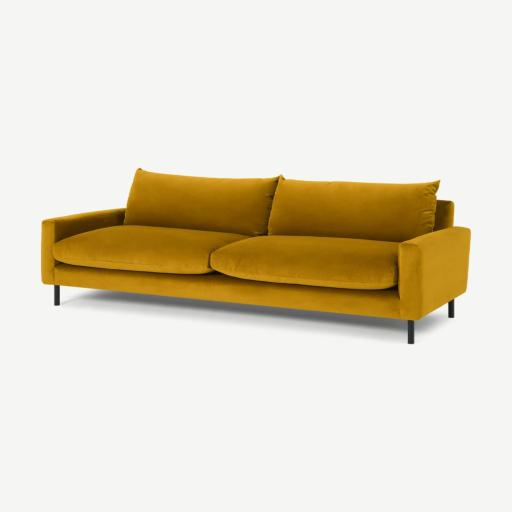back_cushion: (125, 170, 438, 242)
base: (56, 263, 405, 319)
left_arm: (397, 227, 470, 320)
legs: (407, 320, 414, 344), (54, 285, 60, 306), (449, 303, 453, 312)
right_arm: (42, 209, 124, 284)
seat_cushion: (54, 226, 397, 290)
two-seater: (0, 0, 511, 512)
